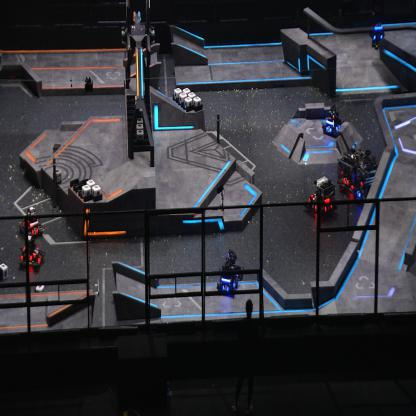car: (354, 150, 386, 206), (336, 146, 368, 196), (305, 175, 338, 218), (19, 231, 45, 270), (320, 104, 344, 138), (19, 204, 43, 238), (221, 248, 244, 283), (216, 263, 238, 298)
